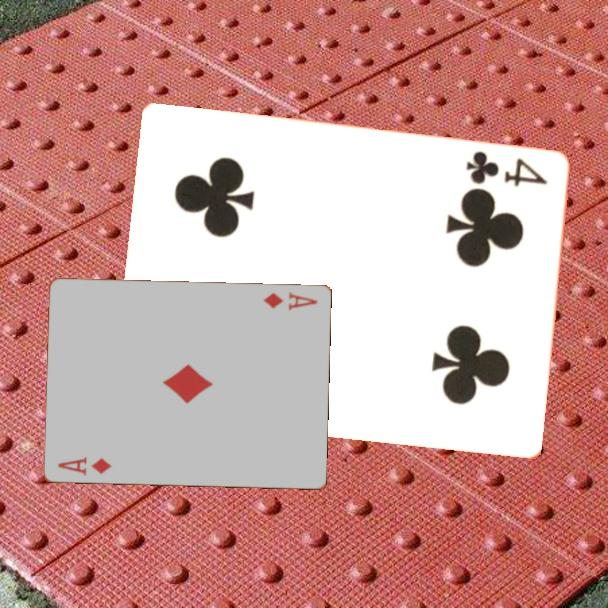c04: (462, 148, 550, 189)
d01: (260, 289, 320, 314), (54, 454, 114, 478)
